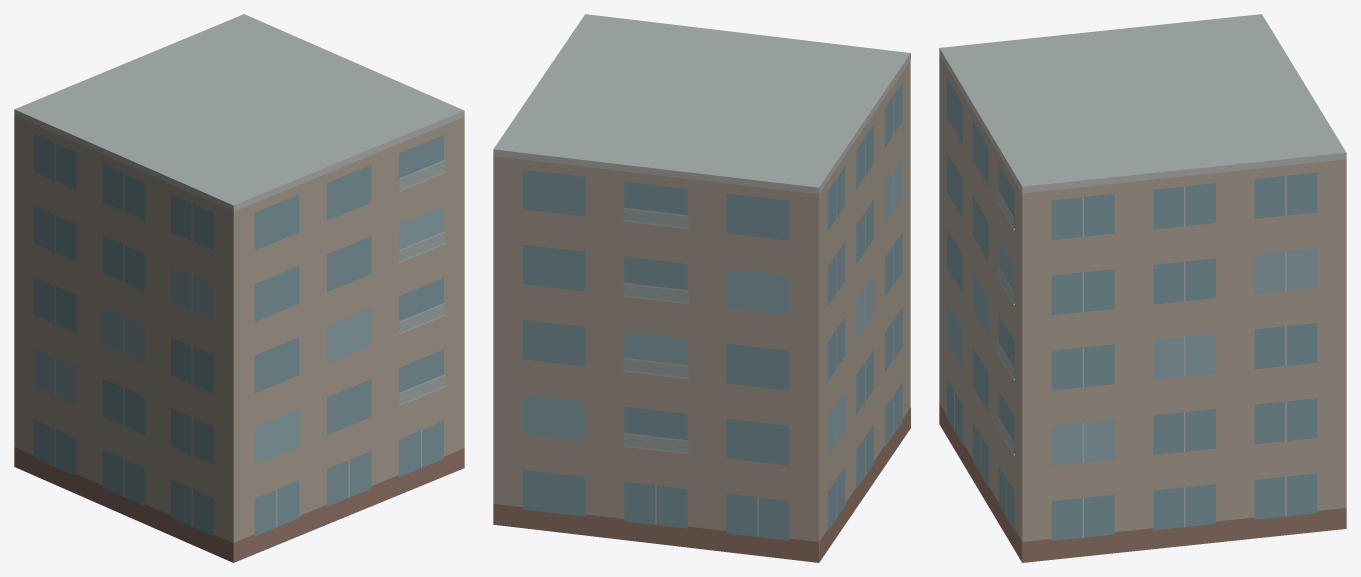
Rendered from survey-upis-32720927.glb.
3 views of the same model, side by side, from view 1: azimuth 30°, elevation 25°; view 2: azimuth 150°, elevation 25°; view 3: azimuth 270°, elevation 25° (orthographic). The views are drawn at different scales.
Visible parts, largest first — view 1: survey-upis-32720927.tmp; view 2: survey-upis-32720927.tmp; view 3: survey-upis-32720927.tmp.
Boxes of the visible parts, x1=… form: survey-upis-32720927.tmp: x1=14, y1=14, x2=464, y2=562; survey-upis-32720927.tmp: x1=493, y1=14, x2=910, y2=562; survey-upis-32720927.tmp: x1=939, y1=14, x2=1346, y2=562.
Size of the model in its own units: 13.8 by 14 by 13.75.
